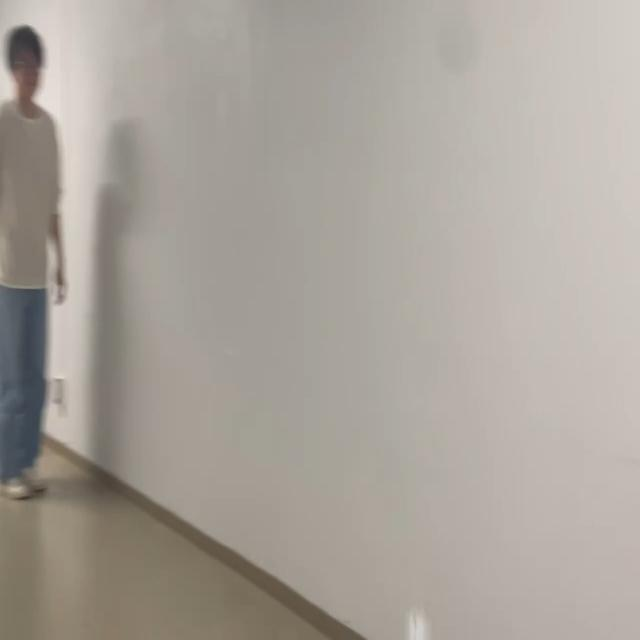paper: (403, 603, 433, 638)
